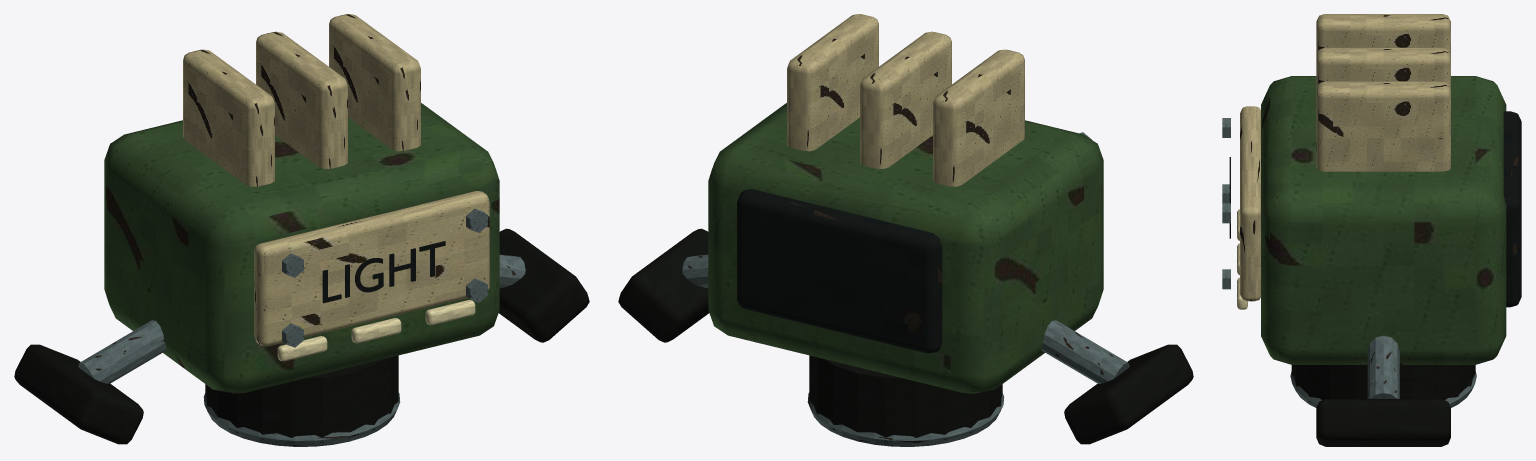
Rendered from eq-featherdrone.glb.
The picture shows the model from 3 angles, left to right: view 1: azimuth 30°, elevation 25°; view 2: azimuth 150°, elevation 25°; view 3: azimuth 270°, elevation 25°; orthographic projection. The views are drawn at different scales.
Visible parts, largest first — view 1: Module shell.001, Cream inset.009, Contact puck.001, Feather fin, Feather fin.002, Feather fin.001, Clamp jaw.002, Clamp jaw.003, Clamp arm.002, Contact rim.001, Mark_LIGHT, Battery pip.005 (+3 smaller); view 2: Module shell.001, Battery cartridge.001, Contact puck.001, Feather fin, Feather fin.002, Feather fin.001, Clamp jaw.002, Clamp jaw.003, Clamp arm.002, Contact rim.001, Clamp arm.003; view 3: Module shell.001, Feather fin.002, Clamp jaw.003, Contact puck.001, Feather fin.001, Feather fin, Cream inset.009, Battery cartridge.001, Clamp arm.003, Contact rim.001.
Part boxes in pixels (x1=…): Module shell.001: x1=104, y1=103, x2=499, y2=393; Cream inset.009: x1=254, y1=191, x2=489, y2=346; Contact puck.001: x1=205, y1=355, x2=398, y2=443; Feather fin: x1=183, y1=49, x2=274, y2=186; Feather fin.002: x1=329, y1=14, x2=420, y2=151; Feather fin.001: x1=256, y1=31, x2=347, y2=168; Clamp jaw.002: x1=14, y1=344, x2=143, y2=444; Clamp jaw.003: x1=498, y1=228, x2=589, y2=342; Clamp arm.002: x1=78, y1=320, x2=166, y2=383; Contact rim.001: x1=203, y1=392, x2=400, y2=446; Mark_LIGHT: x1=322, y1=241, x2=445, y2=303; Battery pip.005: x1=425, y1=300, x2=475, y2=325; Module shell.001: x1=708, y1=103, x2=1103, y2=393; Battery cartridge.001: x1=737, y1=189, x2=942, y2=353; Contact puck.001: x1=809, y1=355, x2=1002, y2=443; Feather fin: x1=933, y1=49, x2=1024, y2=186; Feather fin.002: x1=787, y1=14, x2=878, y2=151; Feather fin.001: x1=860, y1=31, x2=951, y2=168; Clamp jaw.002: x1=1064, y1=344, x2=1193, y2=444; Clamp jaw.003: x1=618, y1=228, x2=709, y2=342; Clamp arm.002: x1=1041, y1=320, x2=1129, y2=383; Contact rim.001: x1=807, y1=392, x2=1004, y2=446; Clamp arm.003: x1=682, y1=254, x2=708, y2=287; Module shell.001: x1=1261, y1=76, x2=1506, y2=364; Feather fin.002: x1=1316, y1=81, x2=1450, y2=171; Clamp jaw.003: x1=1316, y1=399, x2=1450, y2=446; Contact puck.001: x1=1291, y1=365, x2=1475, y2=402; Feather fin.001: x1=1316, y1=47, x2=1450, y2=88; Feather fin: x1=1316, y1=14, x2=1450, y2=54; Cream inset.009: x1=1240, y1=106, x2=1260, y2=301; Battery cartridge.001: x1=1503, y1=111, x2=1521, y2=307; Clamp arm.003: x1=1367, y1=335, x2=1399, y2=398; Contact rim.001: x1=1290, y1=371, x2=1476, y2=407.
Bounding box in the file's own units: 0.4561 × 0.3015 × 0.244.
Materials: 6 (6 with a texture image).
